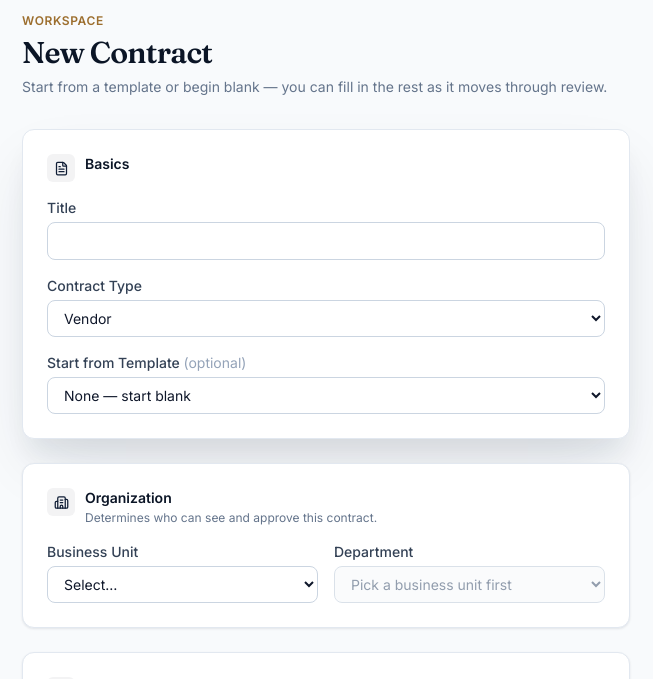
Scenario: ContractCreatePage — Start from Template › shows a variable-fill form and live preview once a template is picked
Select "Vendor Agreement" in the dropdown labelled "Start from Template (optional)". click: (326, 396)
box: [47,377,605,414]
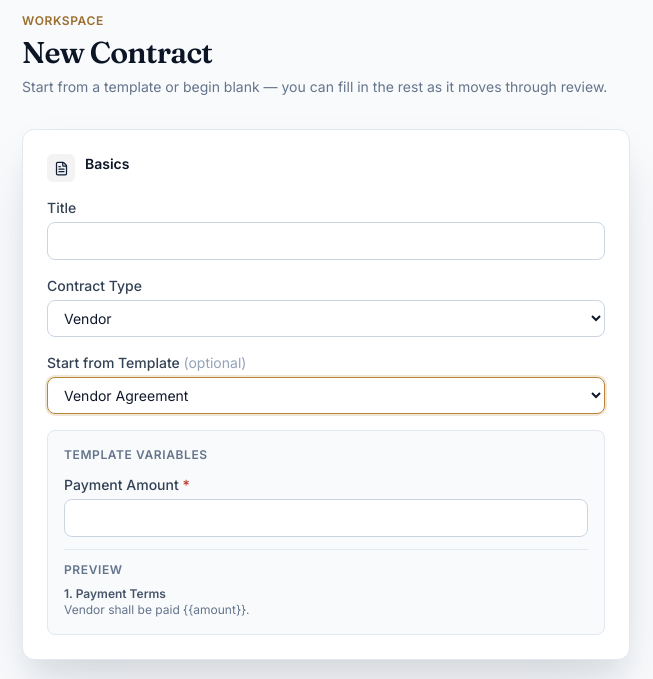
Expected: the number field labelled "Payment Amount *" is shown
Type "5000" into the number field labelled "Payment Amount *". click: (326, 518)
box: [64,499,588,537]
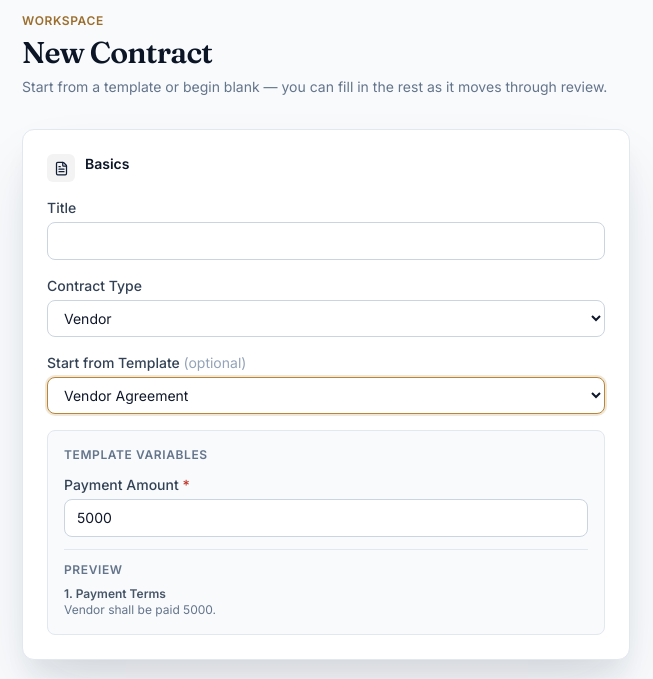
Expected: the text "Vendor shall be paid 5000." is shown, [64,602,216,617]
